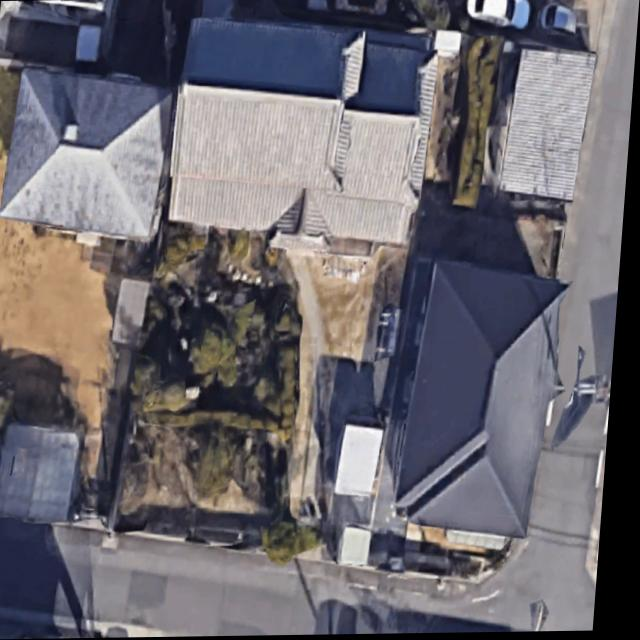Batiment: (171, 17, 438, 243), (402, 261, 572, 537), (3, 67, 173, 239), (502, 50, 596, 201), (0, 423, 85, 522)
